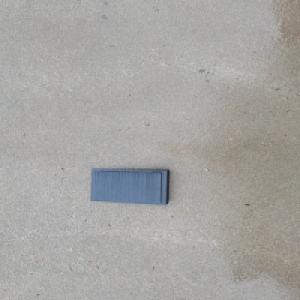PlasticPart: (88, 167, 171, 206)
